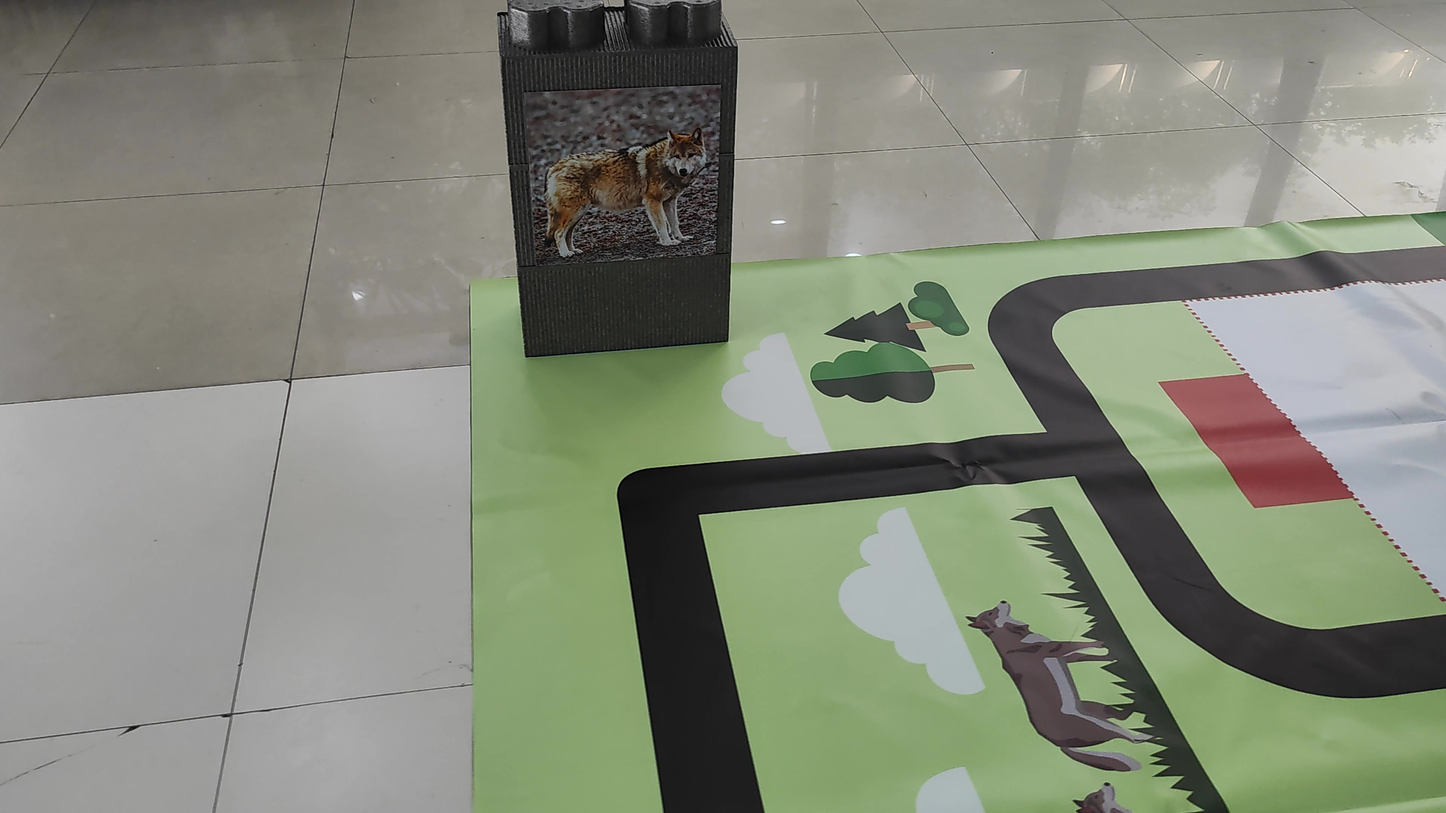wolf: (531, 115, 712, 269)
